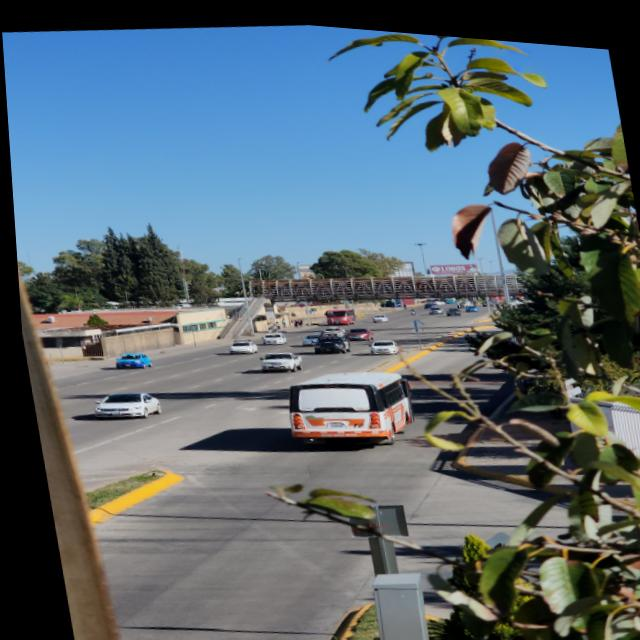Auto: (84, 385, 156, 422), (255, 345, 303, 373), (305, 326, 346, 351), (107, 349, 148, 371), (365, 330, 397, 350), (339, 320, 371, 339), (224, 333, 255, 352), (255, 326, 282, 341), (440, 297, 459, 311), (367, 307, 386, 319)
Autobus: (276, 360, 414, 453)
